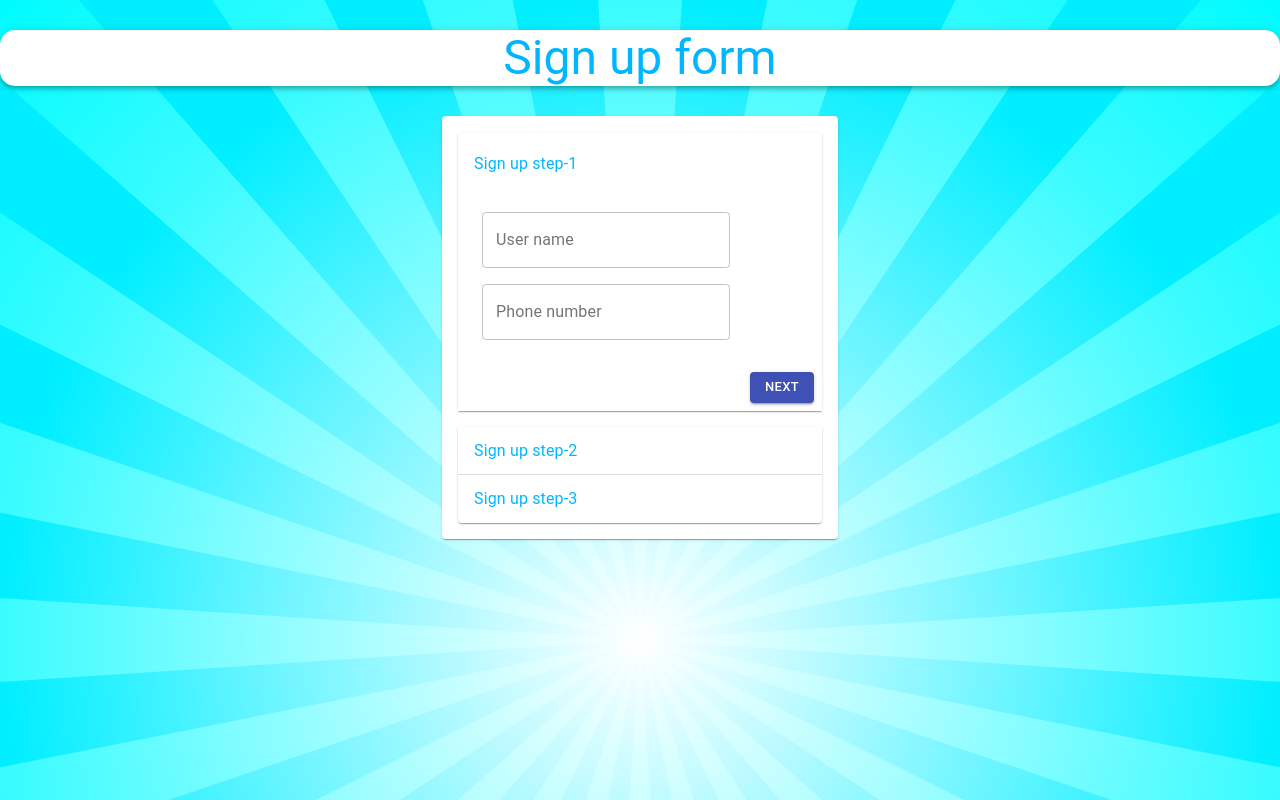
Test case: sign up step-2 button works correctly
The width and height of the screenshot is (1280, 800).
Click the button "Sign up step-2" at (526, 450), box [474, 441, 577, 460]
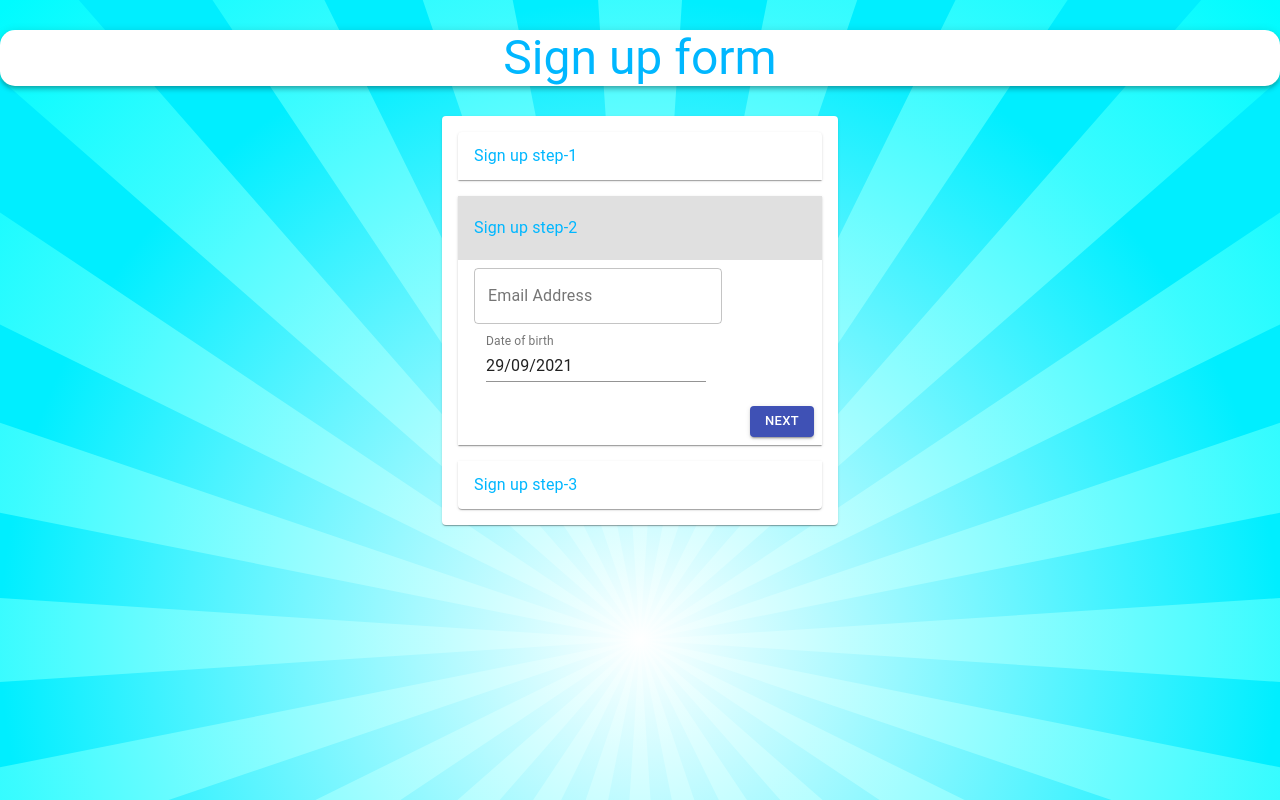
Expected: the element with test id "email" is enabled, [474, 268, 722, 324]
Expected: the element with test id "dateOfBirth" is enabled, [486, 334, 706, 382]
